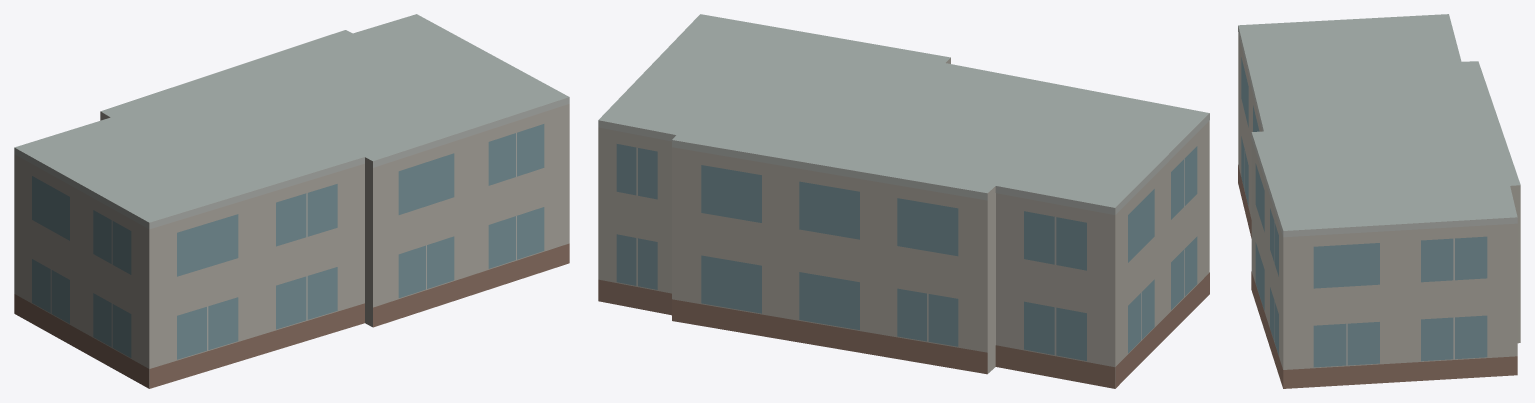
Rendered from survey-upis-32837310.glb.
3 renders of one model, left to right at view 1: azimuth 30°, elevation 25°; view 2: azimuth 150°, elevation 25°; view 3: azimuth 270°, elevation 25°, orthographic. The views are drawn at different scales.
Parts seen in each view (by area): view 1: survey-upis-32837310.tmp; view 2: survey-upis-32837310.tmp; view 3: survey-upis-32837310.tmp.
Part boxes in pixels (x1,y1,x2,y2): survey-upis-32837310.tmp: [14, 14, 569, 388]; survey-upis-32837310.tmp: [598, 14, 1209, 388]; survey-upis-32837310.tmp: [1238, 14, 1520, 388].
Bounding box in the file's own units: 18 × 6.1 × 9.91.
